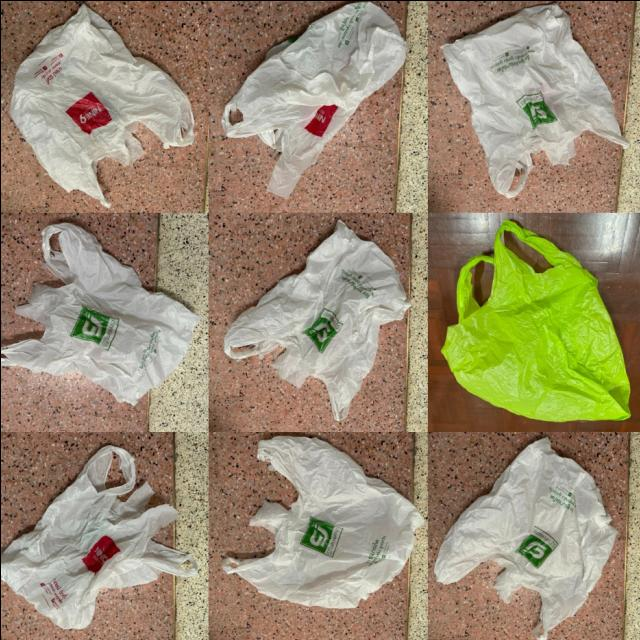plastik: (441, 220, 629, 420), (9, 4, 194, 207), (223, 221, 410, 420), (433, 438, 615, 639), (221, 1, 406, 197), (442, 3, 628, 197), (0, 222, 198, 404), (0, 445, 195, 628), (221, 435, 423, 608)
